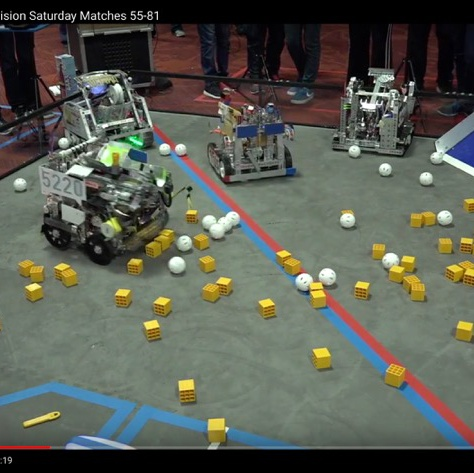robot: (35, 155, 192, 266), (43, 52, 157, 156), (328, 65, 420, 157), (203, 99, 302, 184)
